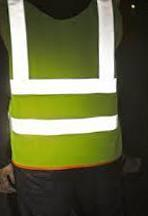Vest: (3, 0, 126, 166)
